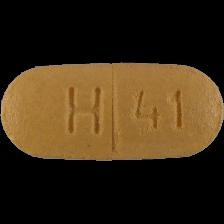43547-367: (0, 0, 224, 224)
